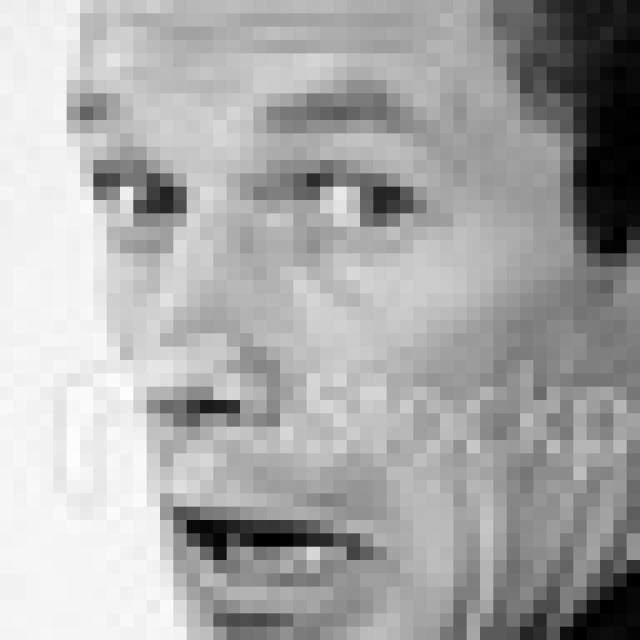fear: (69, 81, 447, 640)
